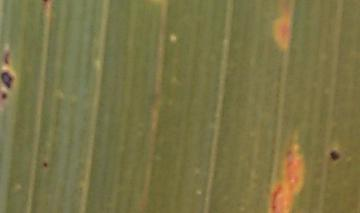tarspot: (1, 71, 14, 88), (328, 149, 341, 160), (2, 52, 11, 64), (41, 162, 49, 168), (1, 93, 8, 99), (43, 1, 49, 3)
